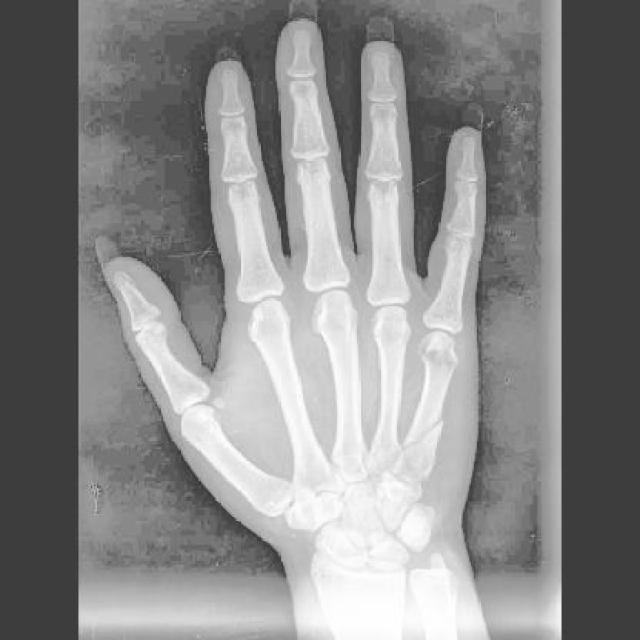Fracture: (403, 413, 451, 459)
